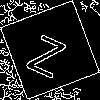Z: (25, 25, 72, 79)
